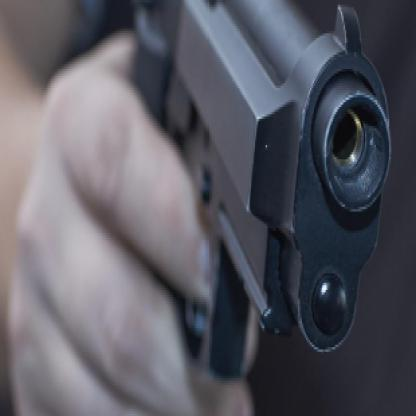gun: (112, 0, 402, 414)
